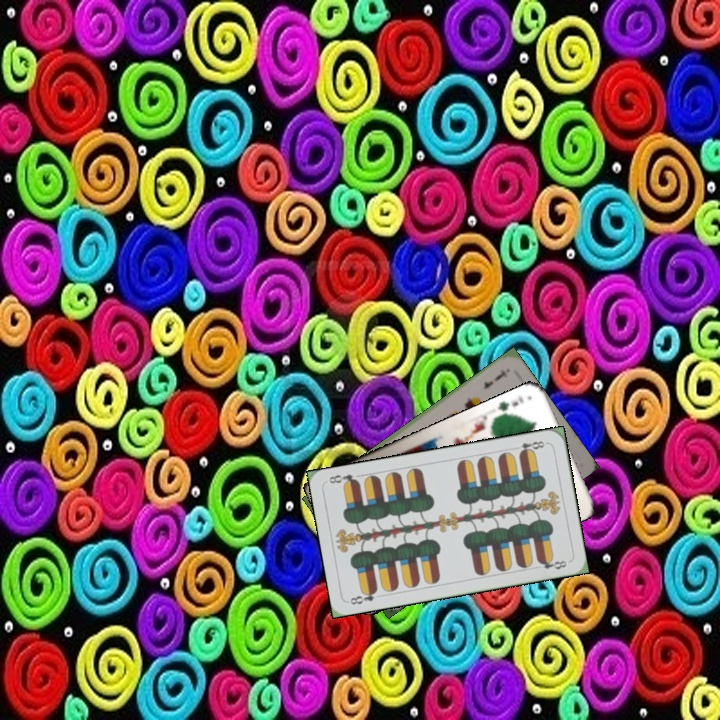E7: (479, 365, 510, 392)
E8: (509, 437, 550, 457), (346, 585, 380, 607)
GK: (494, 392, 526, 414)
